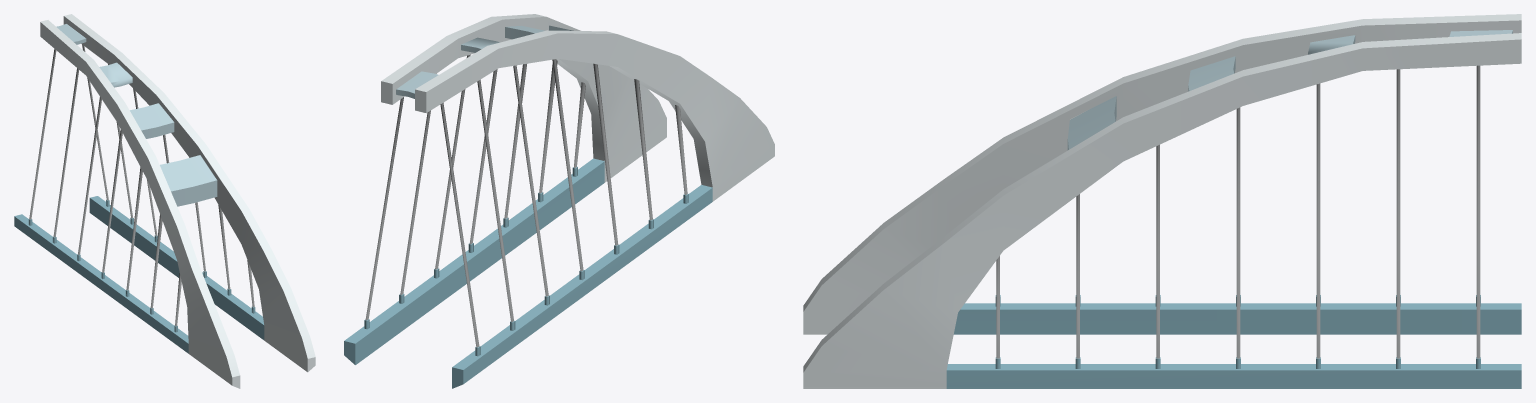
The model's file is Bridge5Arch1.fbx.
The picture shows the model from 3 angles, left to right: view 1: azimuth 30°, elevation 25°; view 2: azimuth 150°, elevation 25°; view 3: azimuth 270°, elevation 25°; orthographic projection. The views are drawn at different scales.
Parts seen in each view (by area): view 1: Bridge5Arch1; view 2: Bridge5Arch1; view 3: Bridge5Arch1.
Part boxes in pixels (<box>): Bridge5Arch1: <box>14,14,315,388</box>; Bridge5Arch1: <box>344,14,774,388</box>; Bridge5Arch1: <box>803,14,1521,388</box>.
Bounding box in the file's own units: 15.93 × 37.04 × 72.
